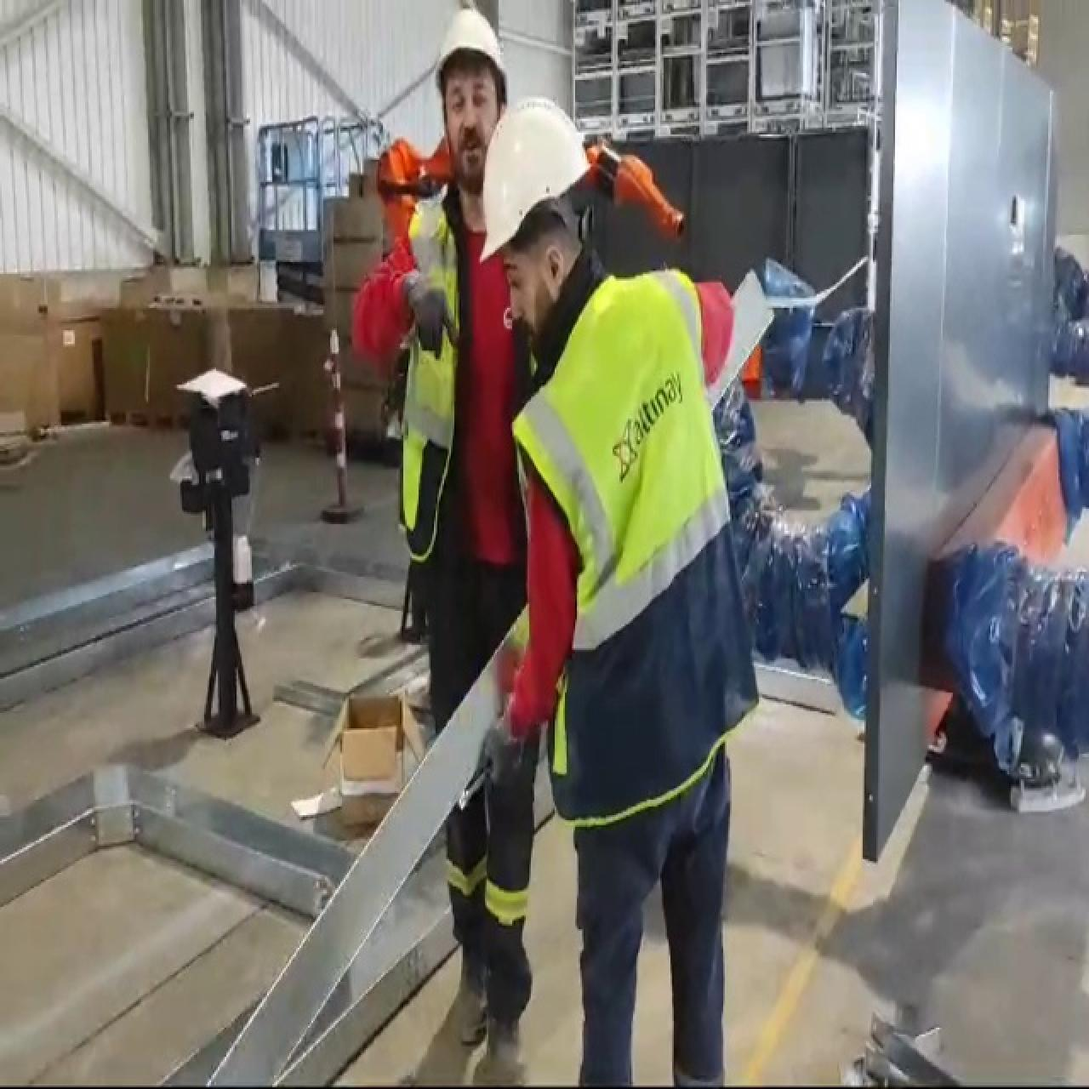Person: (463, 78, 778, 1088), (353, 4, 592, 1084)
Safety_Vest: (492, 262, 774, 817), (372, 187, 495, 600)
